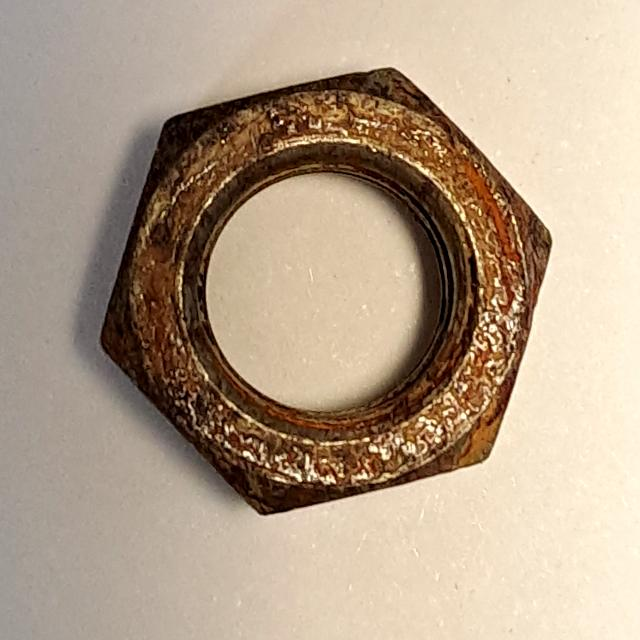Rust: (83, 55, 564, 526)
